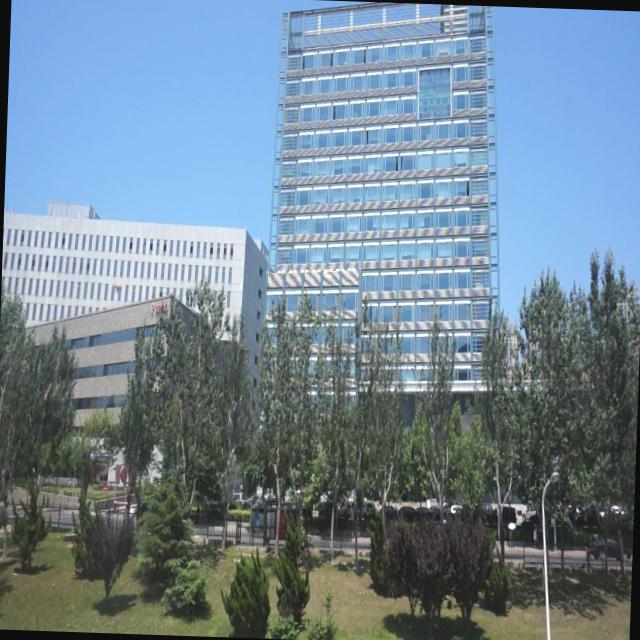drone: (110, 276, 123, 298)
